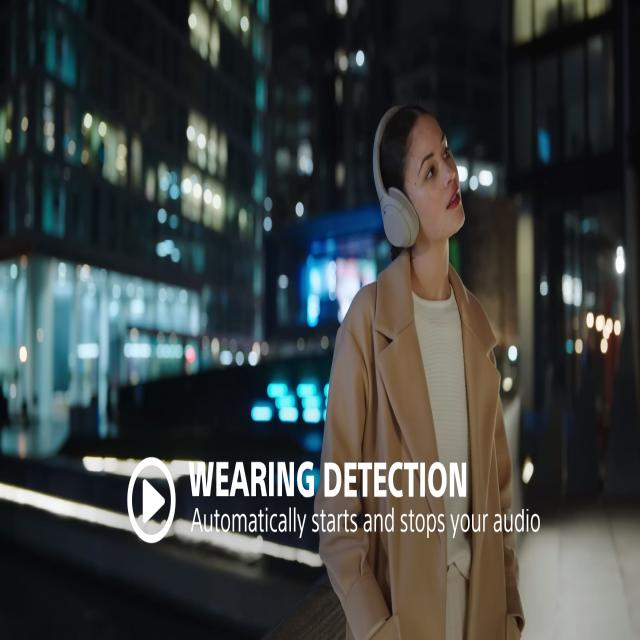Headphone: (371, 101, 419, 250)
